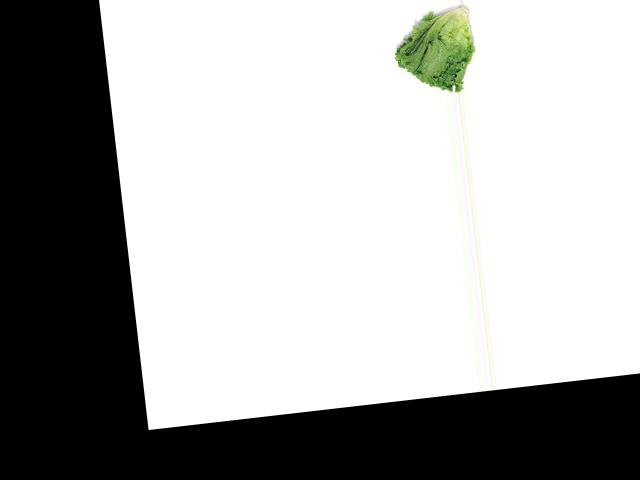lettuce: (382, 1, 485, 99)
